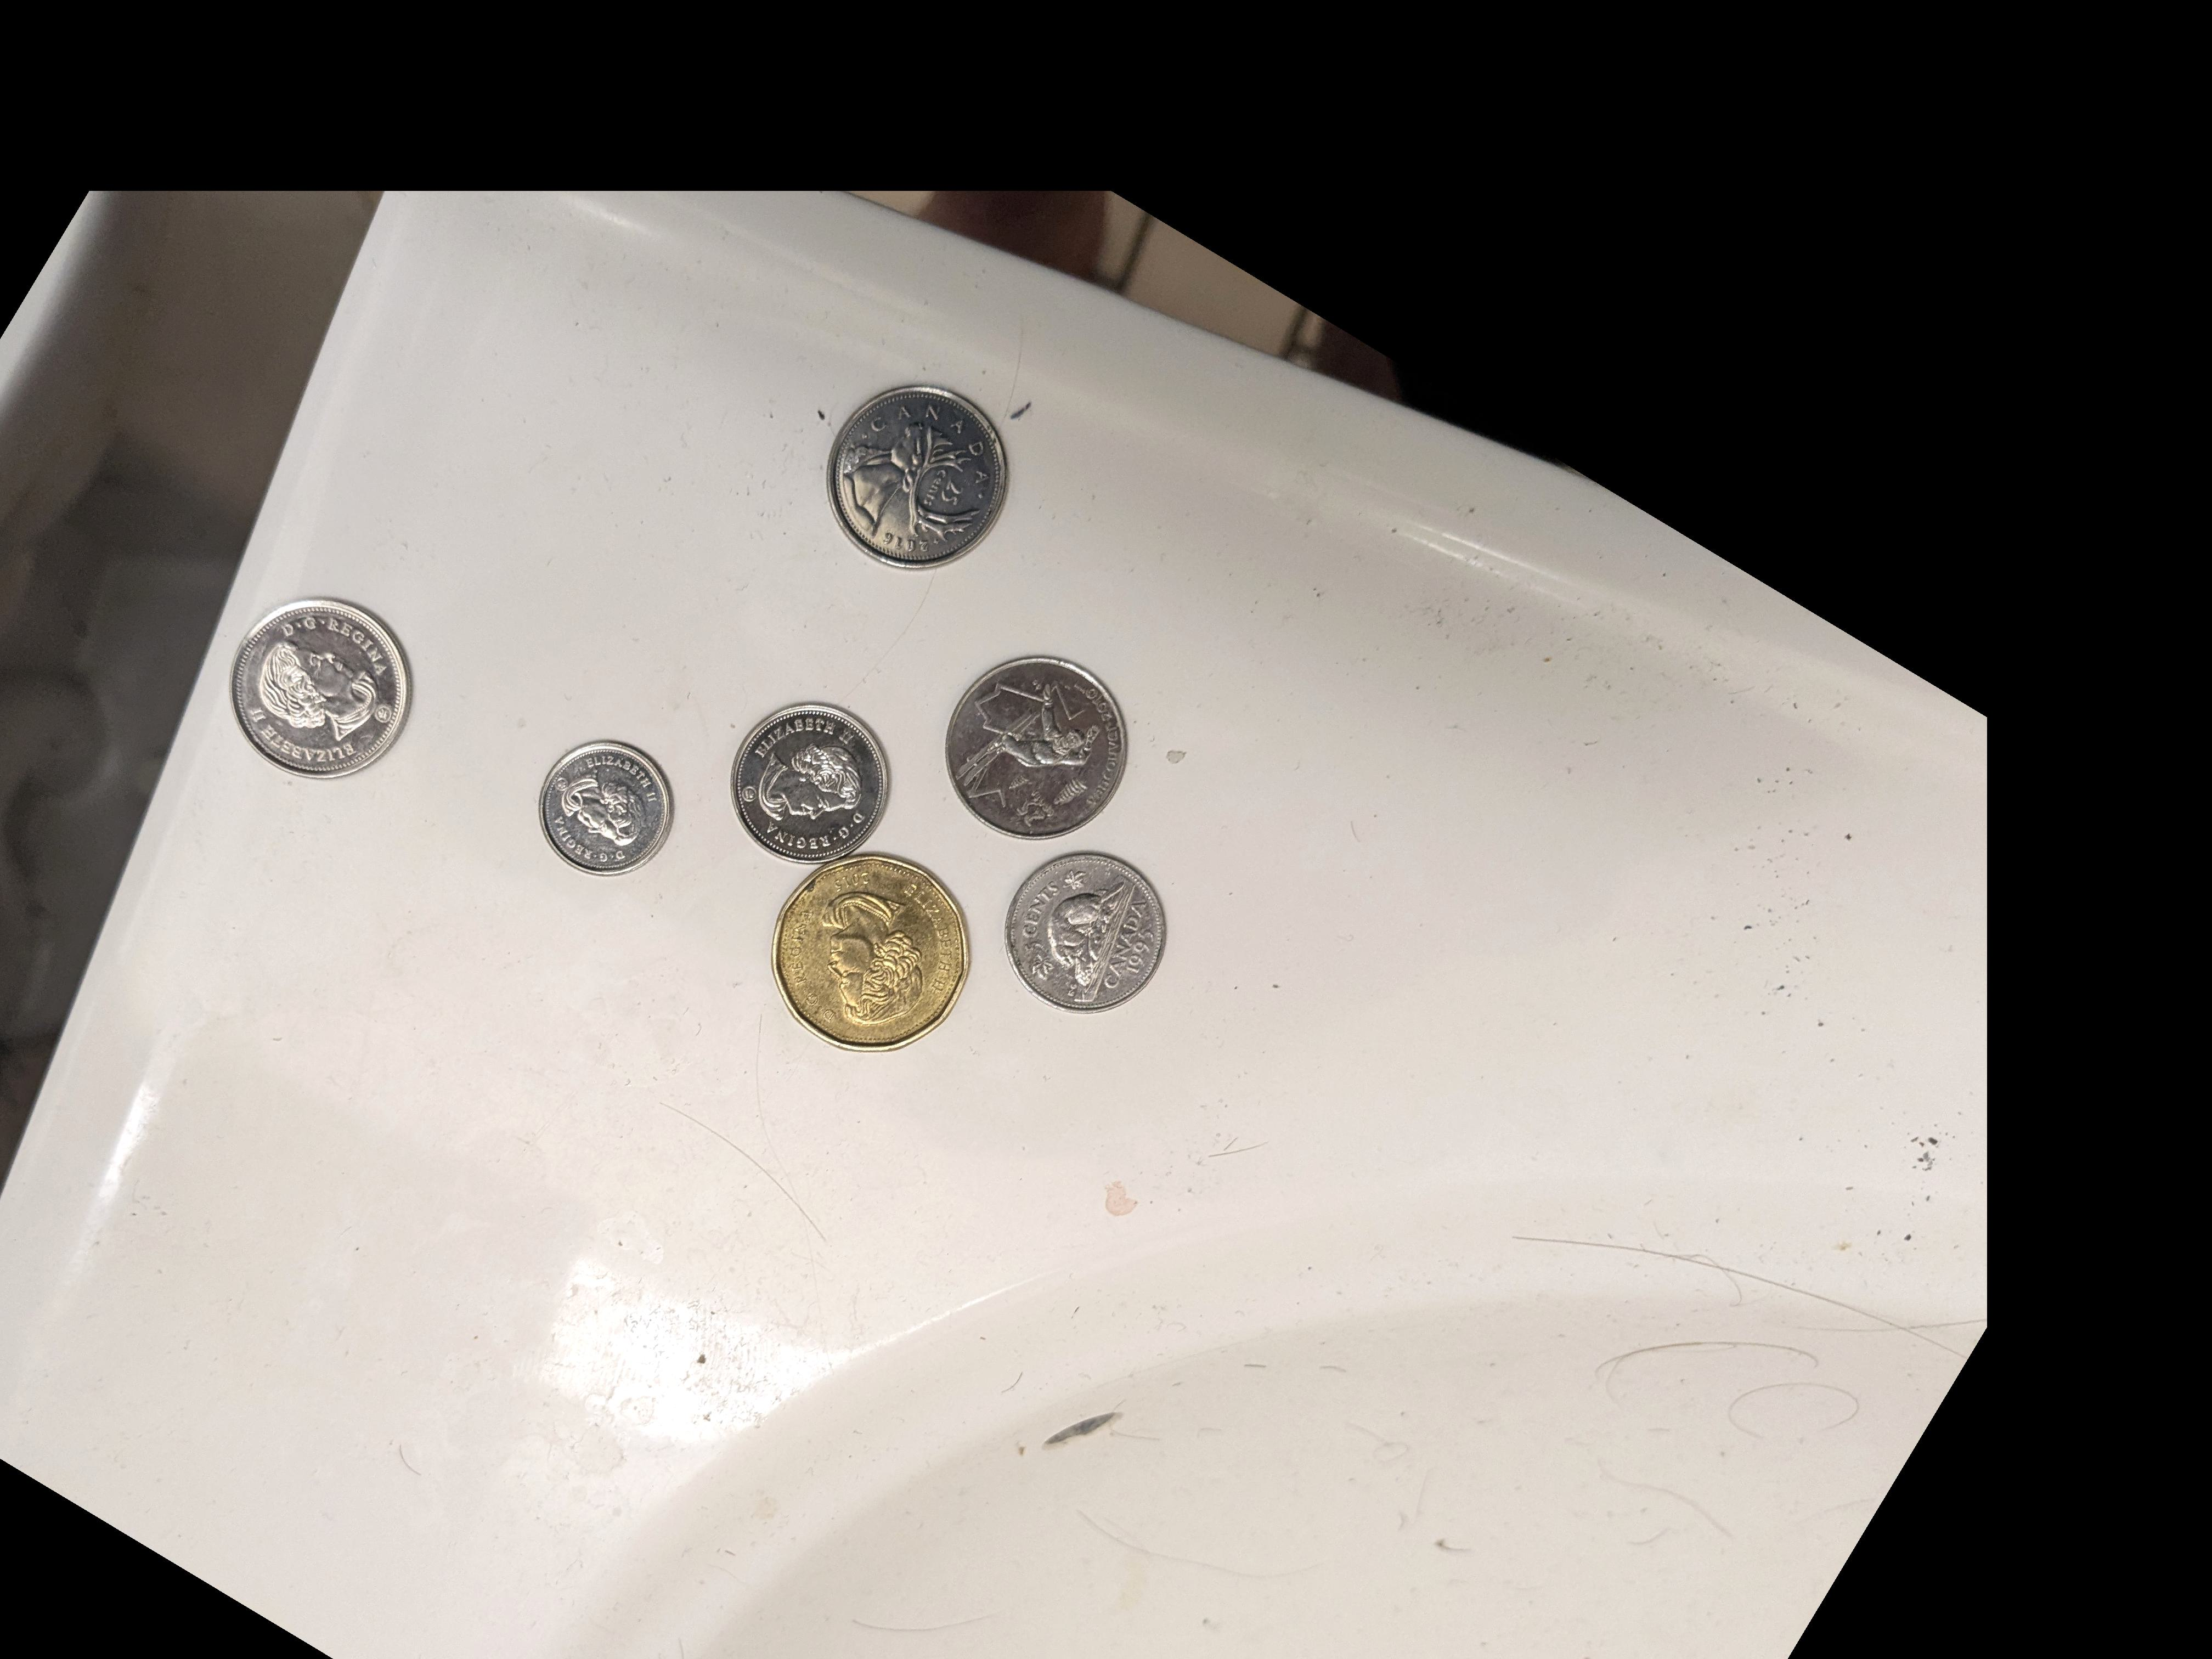dime: (536, 732, 672, 877)
loonie: (770, 857, 970, 1056)
nickel: (1010, 852, 1167, 1019), (732, 706, 892, 866)
quarter: (233, 598, 416, 784), (831, 390, 1012, 572), (948, 657, 1125, 842)
